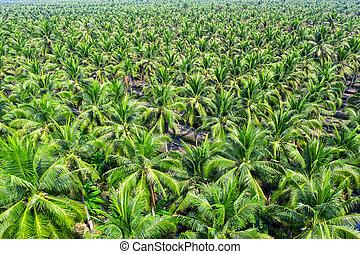coconut_tree: (0, 142, 90, 238), (277, 174, 359, 237), (201, 135, 277, 194), (110, 139, 177, 197), (19, 94, 73, 137), (254, 102, 293, 144), (149, 84, 184, 129), (303, 70, 348, 104), (79, 79, 113, 121), (110, 101, 146, 140), (241, 72, 269, 121), (284, 85, 321, 122), (184, 74, 216, 116)
